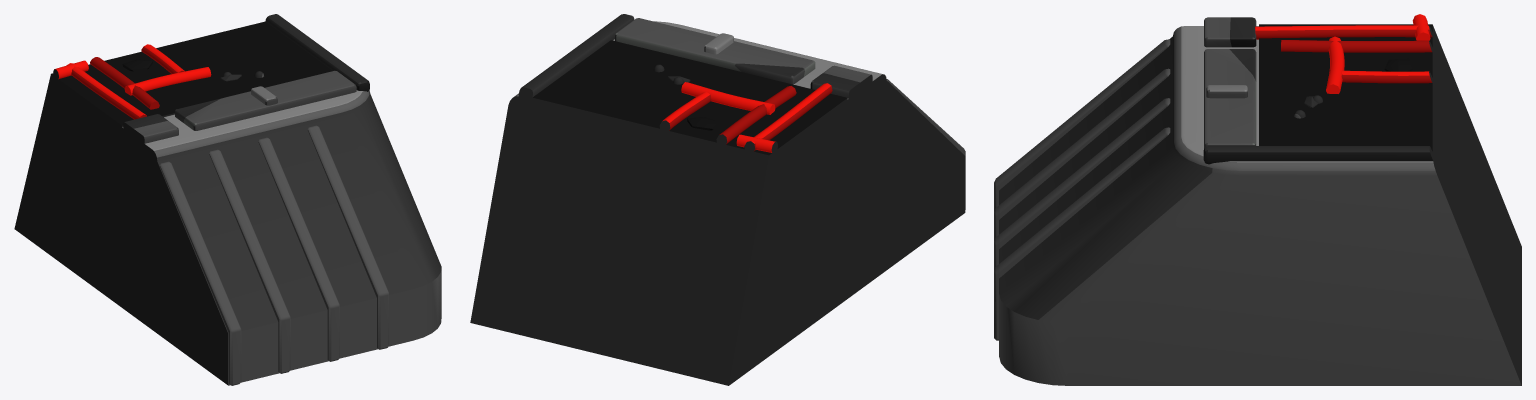
Rendered from cargo_pod_br_wreck.glb.
The picture shows the model from 3 angles, left to right: view 1: azimuth 30°, elevation 25°; view 2: azimuth 150°, elevation 25°; view 3: azimuth 270°, elevation 25°; orthographic projection. The views are drawn at different scales.
Visible parts, largest first — view 1: cargo_pod_br_wreck; view 2: cargo_pod_br_wreck; view 3: cargo_pod_br_wreck.
Boxes of the visible parts, left/top/right/bottom form: cargo_pod_br_wreck: left=14, top=14, right=441, bottom=385; cargo_pod_br_wreck: left=470, top=14, right=965, bottom=385; cargo_pod_br_wreck: left=994, top=14, right=1521, bottom=385.
Size of the model in its own units: 19 by 15 by 30.38.
